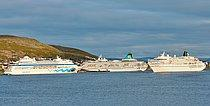Ship: (2, 53, 84, 78)
